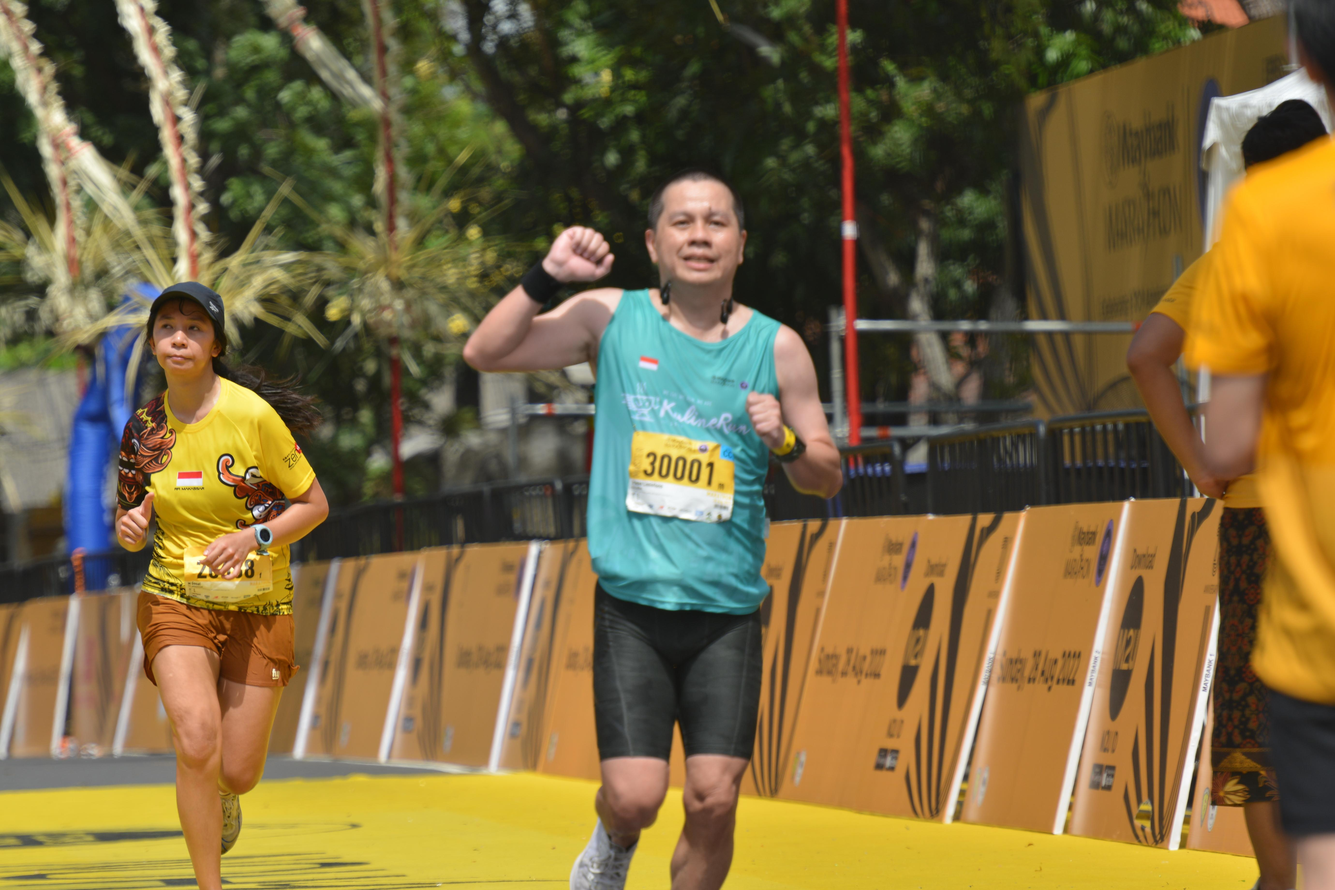bib: (628, 429, 736, 521), (184, 545, 272, 600)
